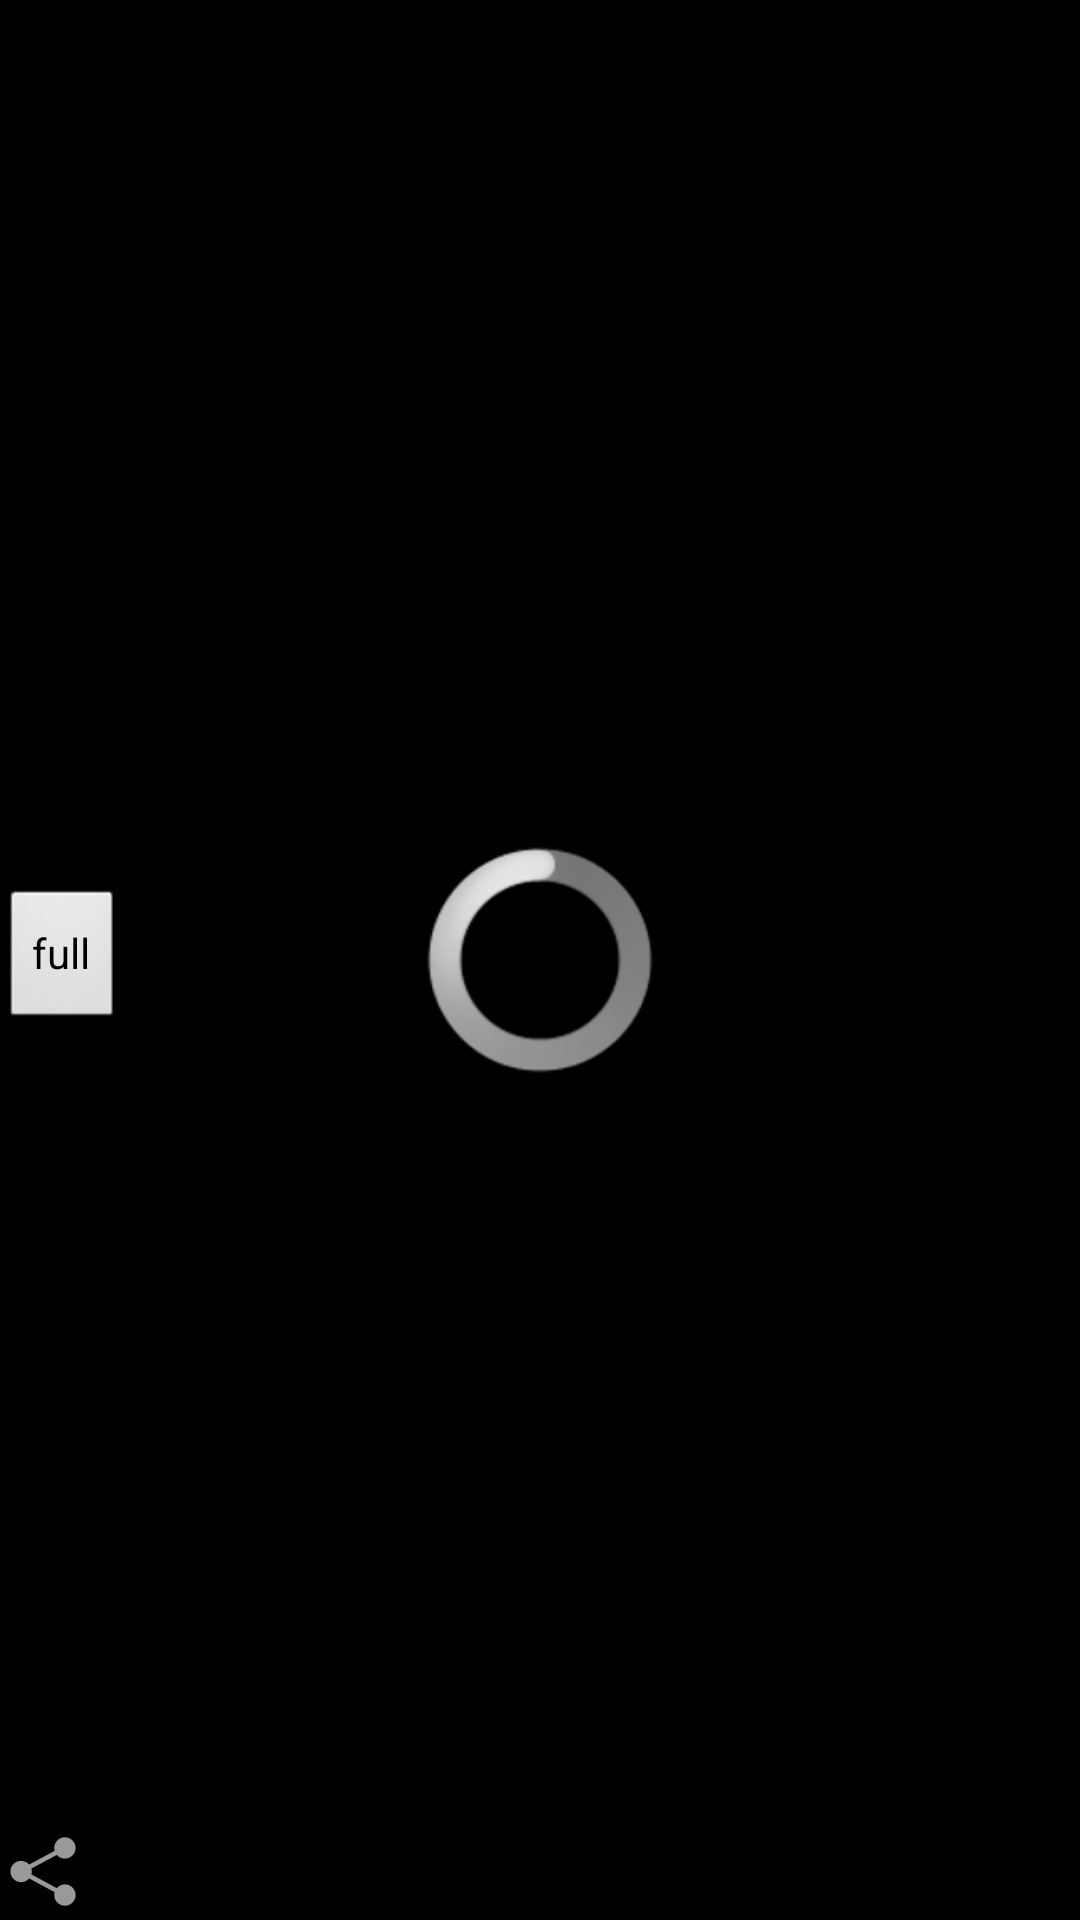

Where icons sit on this 1080px x 1920px app screen, as (x1=x1, y1=y1, x2=x2, y2=y2):
share: (x1=10, y1=1837, x2=76, y2=1906)
